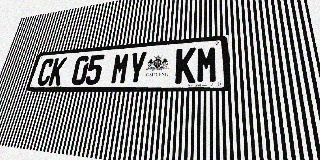0: (70, 56, 90, 85)
5: (84, 54, 105, 85)
C: (36, 58, 55, 86)
K: (175, 47, 196, 84), (48, 57, 67, 86)
M: (196, 46, 218, 83), (110, 52, 131, 85)
Y: (127, 51, 147, 84)
